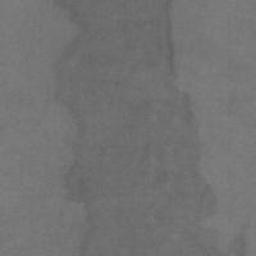Water spot: (50, 0, 252, 255)
